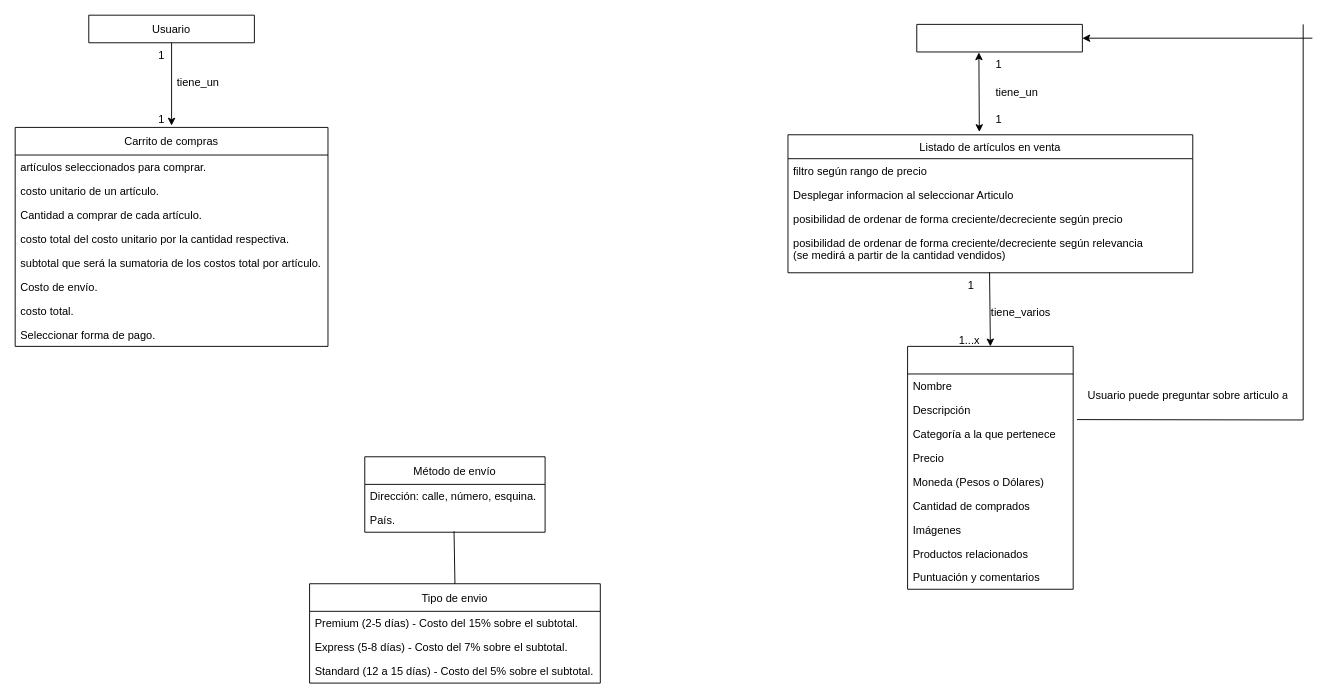
This 1328x698 diagram has some shape labels left out. Each missing label, with the box of its shape:
Articulo: (907, 345, 1073, 589)
Vendedor: (916, 23, 1082, 52)
